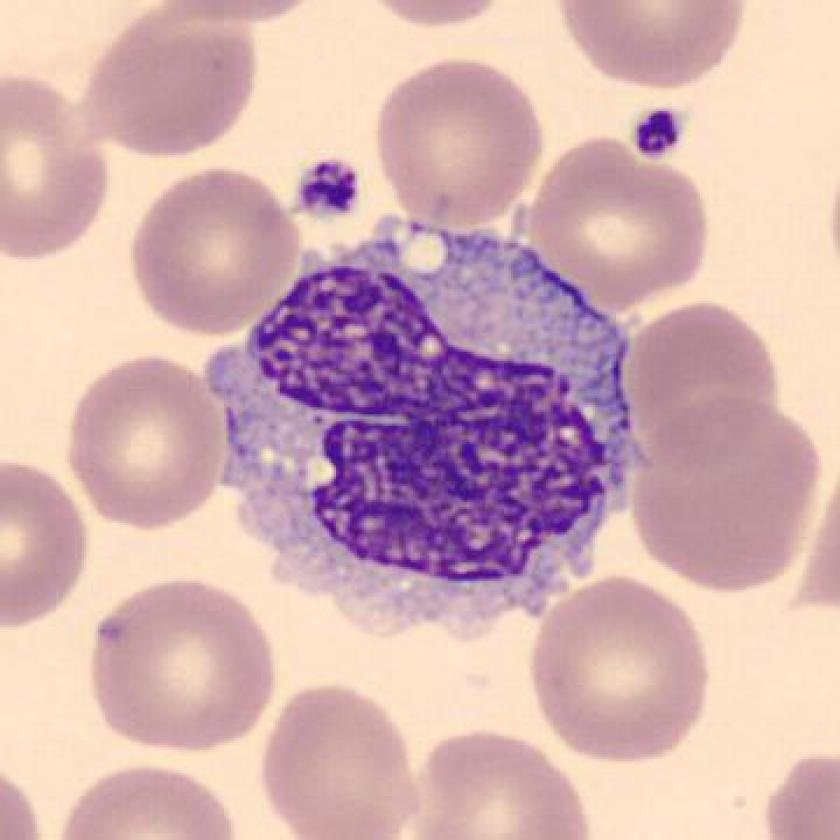monocyte: (190, 193, 673, 668)
